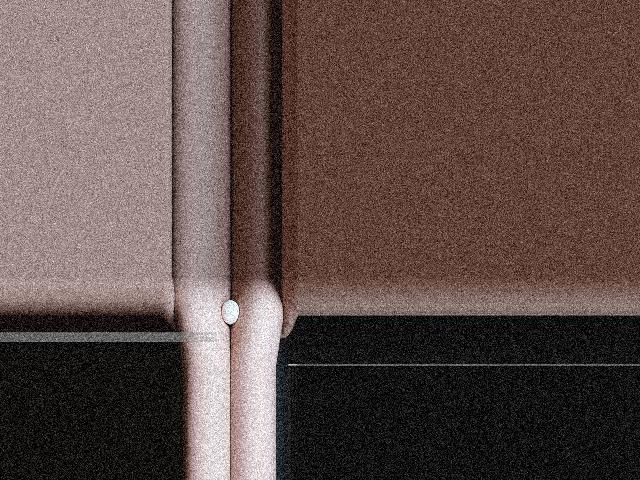egg: (221, 300, 239, 324)
